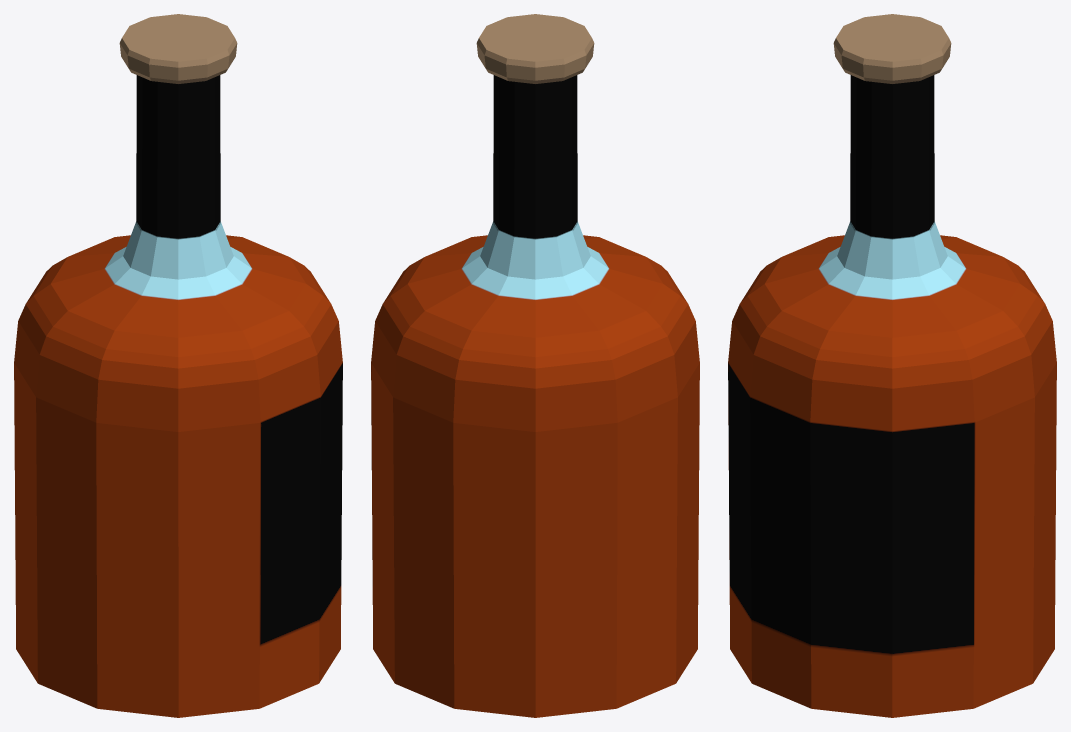
File: Bottiglia Whiskey.fbx
3 views of the same model, side by side, from view 1: azimuth 30°, elevation 25°; view 2: azimuth 150°, elevation 25°; view 3: azimuth 270°, elevation 25° (orthographic).
Parts seen in each view (by area): view 1: Cylinder; view 2: Cylinder; view 3: Cylinder.
Boxes of the visible parts, x1,y1,x2,y2 form: Cylinder: (14, 14, 342, 717); Cylinder: (371, 14, 699, 717); Cylinder: (728, 14, 1056, 717).
Size of the model in its own units: 799 by 1639 by 799.
